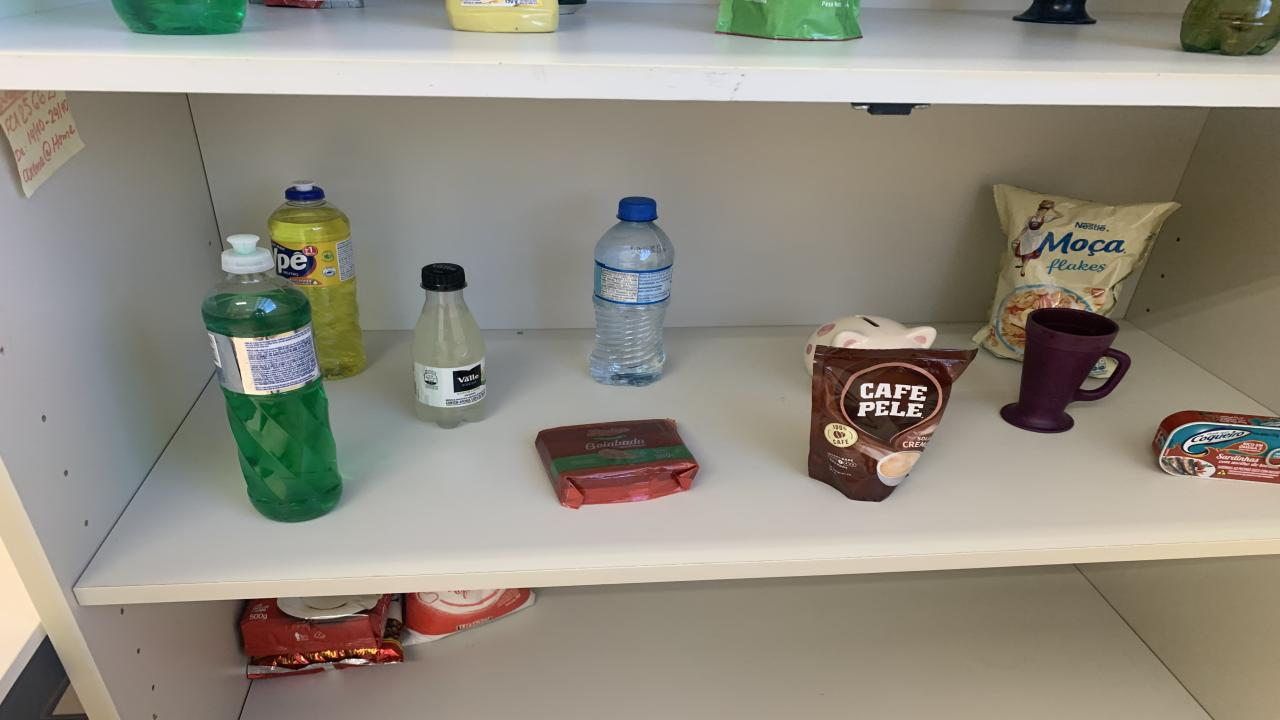Coffee-Pantry_Items: (808, 345, 978, 501)
Detergent-Cleanup_Items: (202, 234, 342, 521), (268, 182, 365, 379), (112, 0, 248, 36)
Flakes-Snacks: (972, 184, 1180, 360)
Guarana-Drinks: (1180, 0, 1280, 56)
Guava-Snacks: (535, 420, 698, 508)
Mustard-Pantry_Items: (445, 0, 560, 32)
Pig_Safe-Miscellaneous: (805, 315, 938, 373)
Soda-Drinks: (412, 262, 488, 429)
Tomato_Sauce-Pantry_Items: (715, 0, 862, 41), (260, 0, 362, 9)
Tuna_Can-Pantry_Items: (1152, 411, 1280, 484)
Water_Bottle-Drinks: (590, 197, 675, 386)
